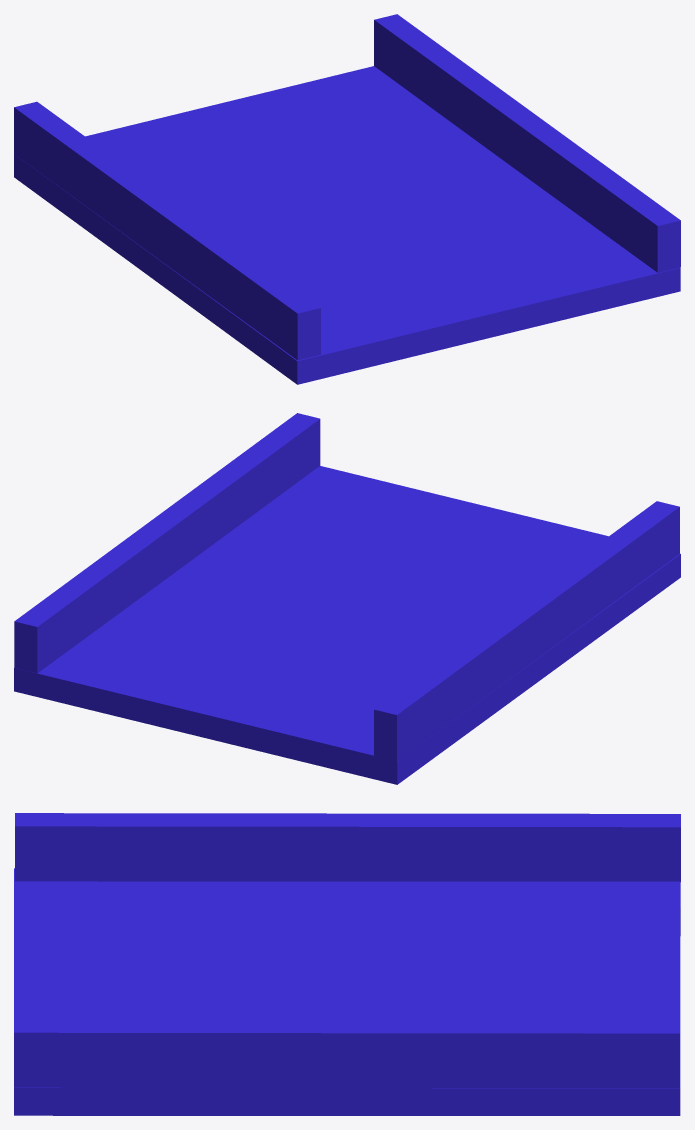
The model's file is pinball.gltf.
The picture shows the model from 3 angles, top to bottom: view 1: azimuth 30°, elevation 25°; view 2: azimuth 150°, elevation 25°; view 3: azimuth 270°, elevation 25°; orthographic projection. The views are drawn at different scales.
Parts seen in each view (by area): view 1: Cube, LeftBorder, RightBorder; view 2: Cube, RightBorder, LeftBorder; view 3: Cube, LeftBorder, RightBorder.
Part boxes in pixels (x1,y1,x2,y2): Cube: (14,66,680,384); LeftBorder: (14,101,320,360); RightBorder: (374,14,680,272); Cube: (14,466,680,784); RightBorder: (14,413,320,673); LeftBorder: (374,501,679,761); Cube: (14,868,680,1115); LeftBorder: (15,813,680,881); RightBorder: (14,1019,679,1088).
Bounding box in the file's own units: 4.57 × 0.8062 × 5.86.
